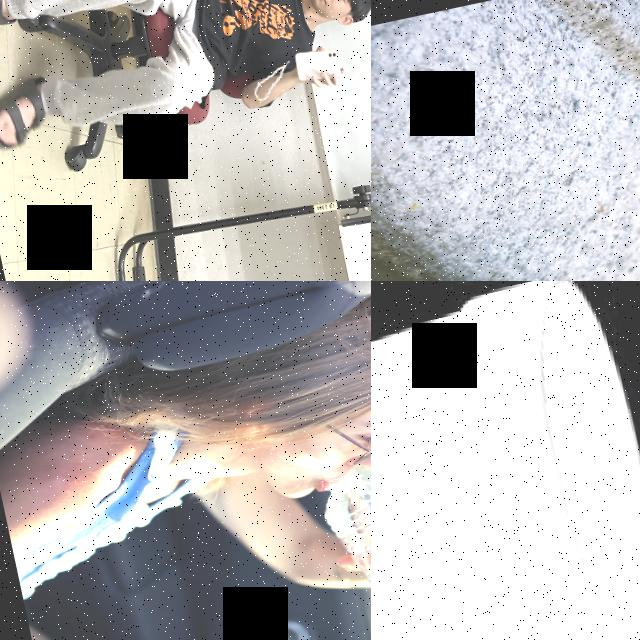bottle: (312, 451, 371, 630)
cup: (371, 281, 640, 640)
